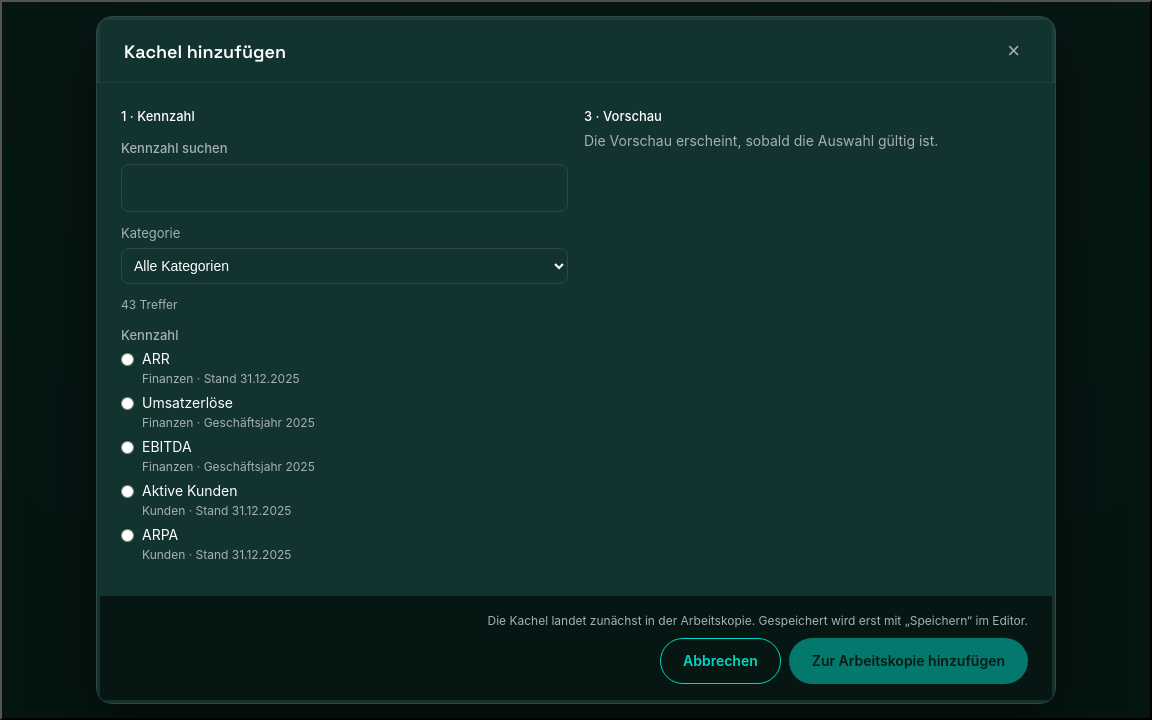
Test: TileConfigurator › listet Kennzahlen, filtert per Suche und sagt die Trefferzahl an
Type "ARR" into the field labelled "Kennzahl suchen" at (344, 188), box 121,164 -> 568,212
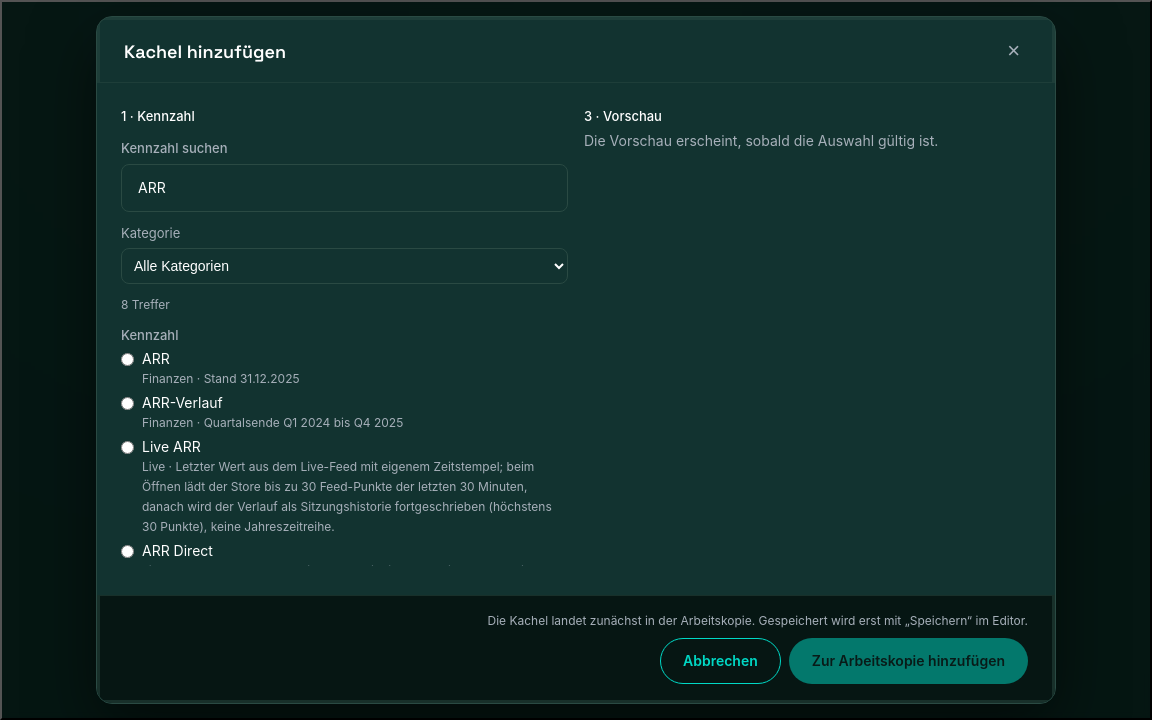
Check: the message "8 Treffer" is shown, box 121,296 -> 170,312
Replace the text in the field labelled "Kennzahl suchen" with "zzzzzz" at (344, 188), box 121,164 -> 568,212
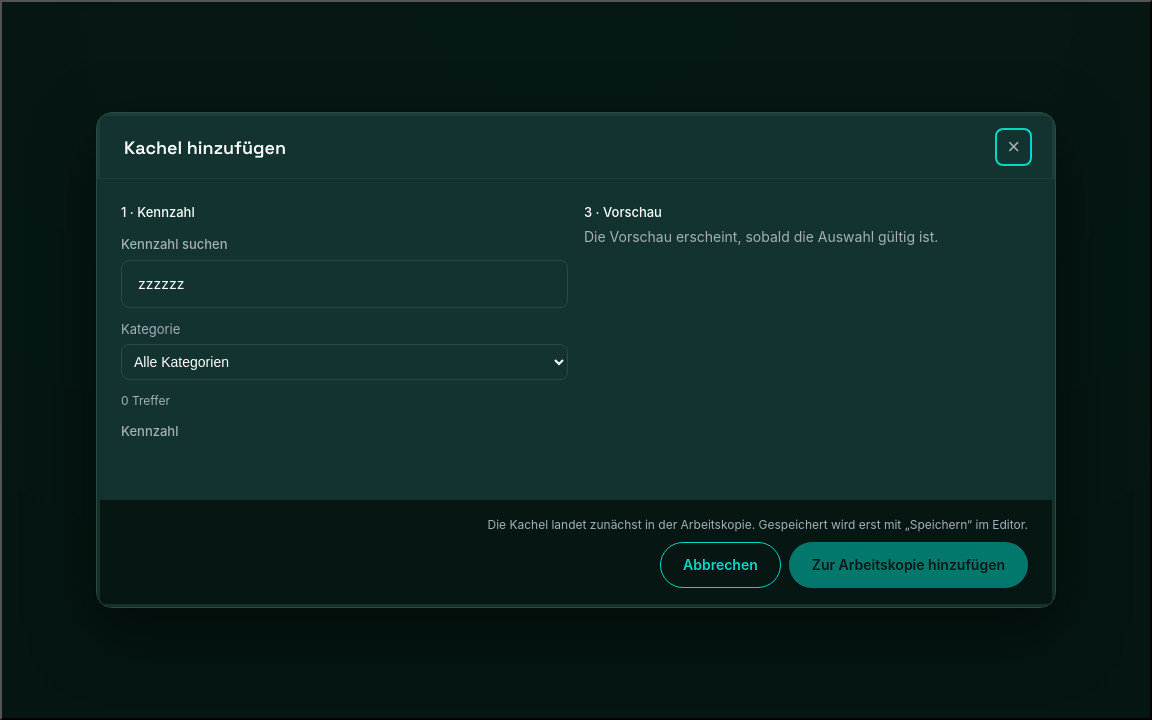
Check: the text "0 Treffer" is shown, box 121,392 -> 170,408
